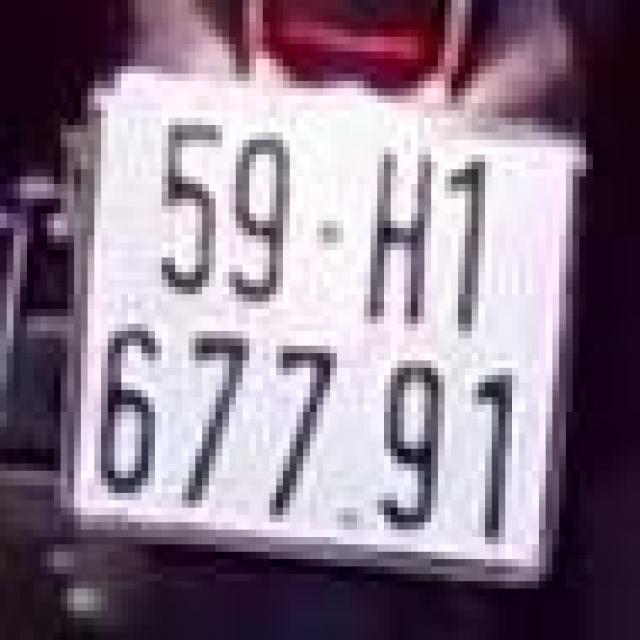1: (438, 147, 498, 346), (465, 357, 525, 548)
5: (152, 114, 226, 298)
6: (98, 320, 165, 504)
7: (266, 327, 340, 519), (178, 324, 252, 515)
9: (378, 346, 452, 544), (232, 121, 300, 313)
H: (367, 132, 435, 346)
